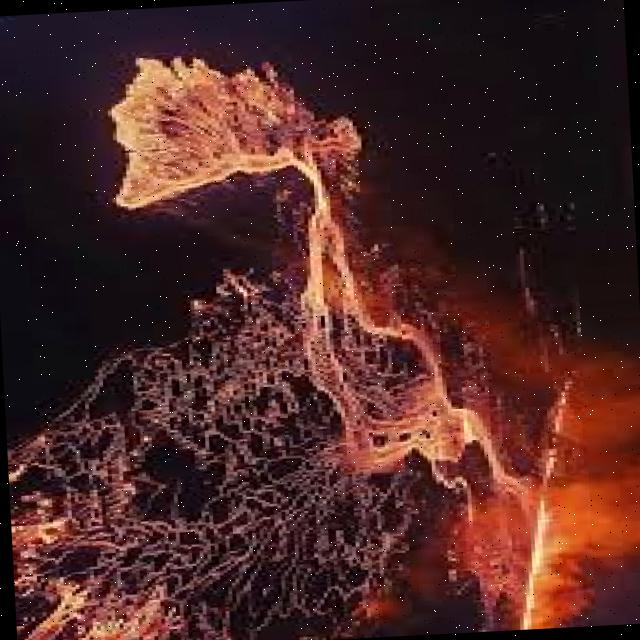explosion: (450, 317, 640, 633)
